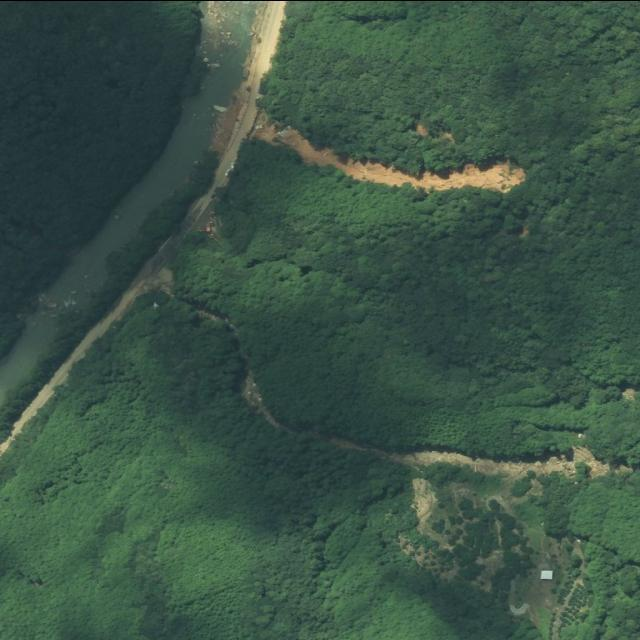landslide: (239, 386, 603, 523), (250, 109, 527, 191)
